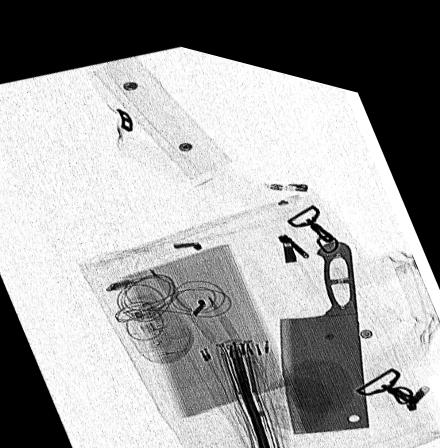Knife: (279, 223, 370, 419)
